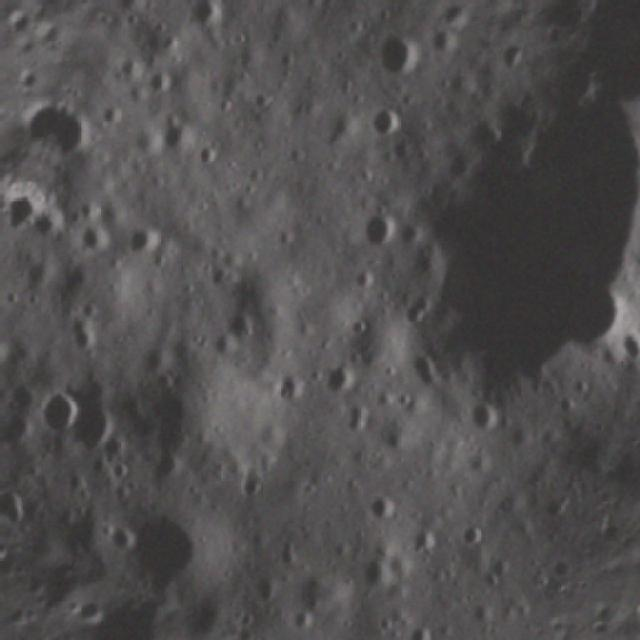crater: (378, 51, 640, 438), (101, 502, 212, 606), (358, 24, 431, 96), (345, 202, 407, 272), (63, 394, 125, 463), (25, 379, 86, 446), (44, 102, 104, 169), (152, 114, 206, 168), (350, 548, 404, 601), (313, 362, 367, 410), (22, 206, 69, 256), (457, 398, 505, 444), (361, 486, 407, 532), (446, 515, 492, 559), (179, 0, 231, 38), (0, 481, 35, 535), (228, 463, 269, 508), (364, 104, 408, 144), (138, 63, 176, 105), (362, 632, 424, 640)
